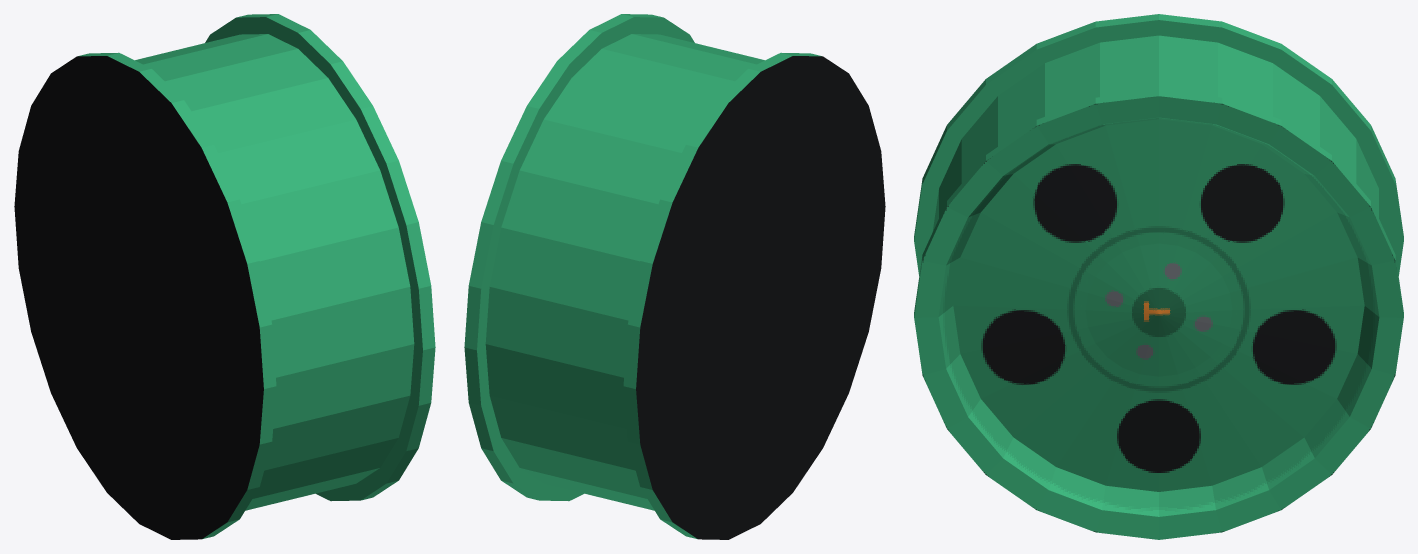
File: tiziu_vazada_17.glb
The picture shows the model from 3 angles, left to right: view 1: azimuth 30°, elevation 25°; view 2: azimuth 150°, elevation 25°; view 3: azimuth 270°, elevation 25°; orthographic projection.
Visible parts, largest first — view 1: tiziu_vazada_17; view 2: tiziu_vazada_17; view 3: tiziu_vazada_17.
Part boxes in pixels (x1=…): tiziu_vazada_17: x1=14, y1=14, x2=435, y2=539; tiziu_vazada_17: x1=464, y1=14, x2=885, y2=539; tiziu_vazada_17: x1=914, y1=14, x2=1403, y2=539.
Size of the model in its own units: 0.192 by 0.4836 by 0.4836.
Materials: 1 (1 with a texture image).
